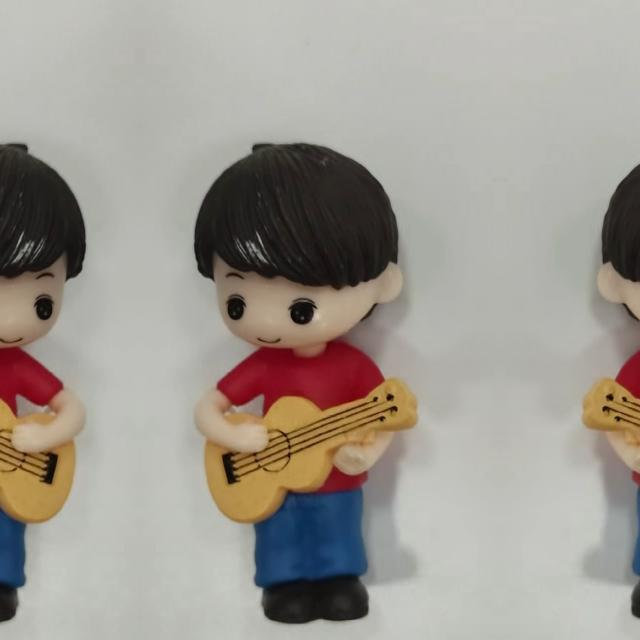man cloth: (216, 348, 390, 492), (0, 348, 64, 492), (609, 348, 640, 492)
man head: (184, 134, 410, 350), (0, 134, 96, 349), (589, 134, 640, 349)
trousers: (232, 485, 381, 623), (0, 485, 48, 623), (619, 485, 640, 623)
